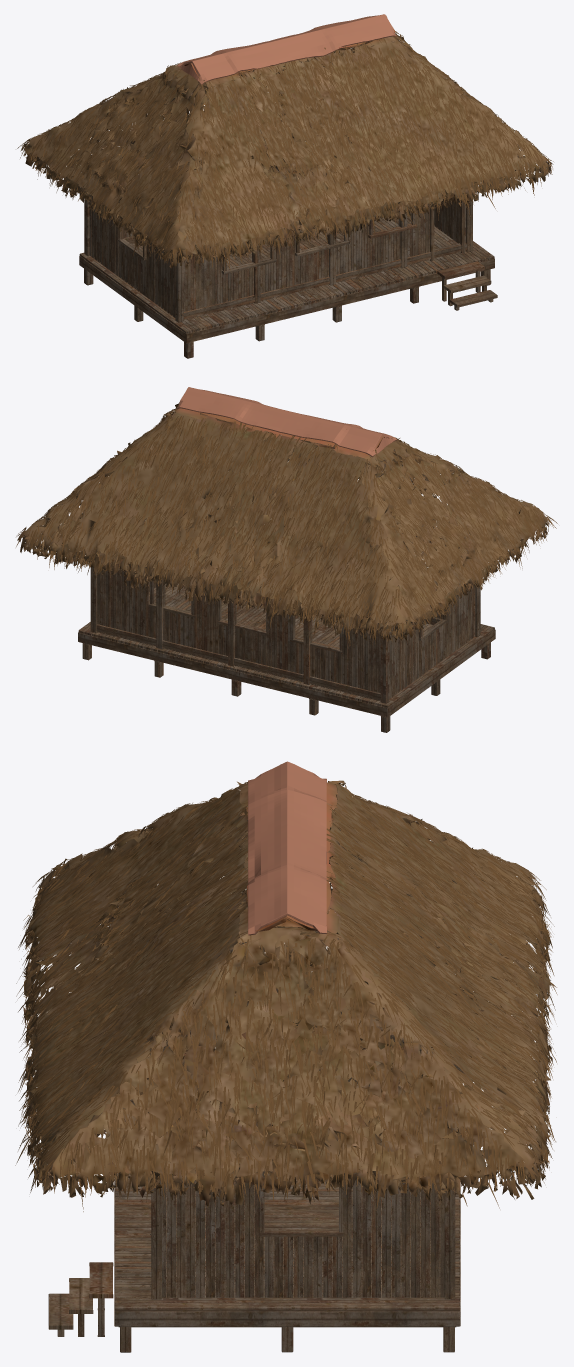
File: stilt-house-v001.glb
3 views of the same model, one above another, from view 1: azimuth 30°, elevation 25°; view 2: azimuth 150°, elevation 25°; view 3: azimuth 270°, elevation 25° (orthographic). The views are drawn at different scales.
Visible parts, largest first — view 1: AHOLO_Hipped_Thatch_Roof, Layered_Palm_Leaf_Detail, Timber_Structure, Curved_Terracotta_Ridge_Cap; view 2: AHOLO_Hipped_Thatch_Roof, Layered_Palm_Leaf_Detail, Timber_Structure, Curved_Terracotta_Ridge_Cap; view 3: AHOLO_Hipped_Thatch_Roof, Layered_Palm_Leaf_Detail, Timber_Structure, Curved_Terracotta_Ridge_Cap.
Part boxes in pixels (x1,y1,x2,y2): AHOLO_Hipped_Thatch_Roof: (20, 15, 553, 268); Layered_Palm_Leaf_Detail: (17, 33, 553, 272); Timber_Structure: (79, 44, 497, 358); Curved_Terracotta_Ridge_Cap: (177, 14, 396, 84); AHOLO_Hipped_Thatch_Roof: (17, 396, 548, 642); Layered_Palm_Leaf_Detail: (16, 402, 557, 646); Timber_Structure: (78, 430, 495, 732); Curved_Terracotta_Ridge_Cap: (176, 387, 396, 457); AHOLO_Hipped_Thatch_Roof: (23, 780, 552, 1207); Layered_Palm_Leaf_Detail: (15, 781, 557, 1211); Timber_Structure: (48, 816, 500, 1352); Curved_Terracotta_Ridge_Cap: (248, 761, 326, 935).
Bounding box in the file's own units: 10.39 × 6.11 × 7.6.
Materials: 12 (10 with a texture image).
